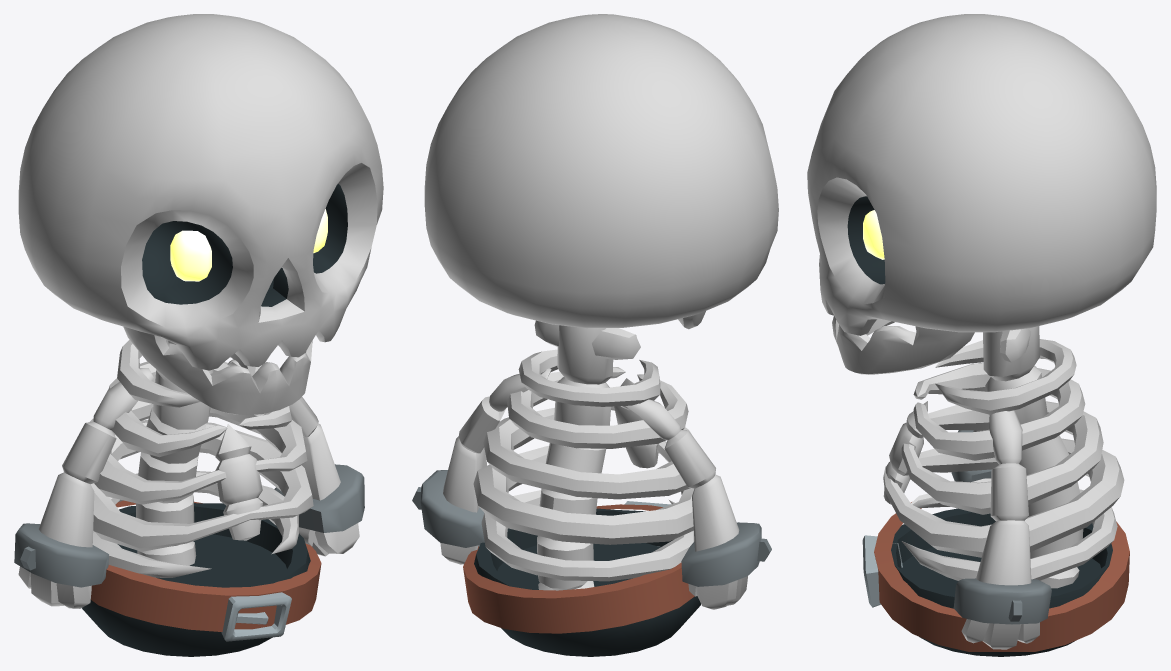
Rendered from SkeletorMinionForAnimation.gltf.
The picture shows the model from 3 angles, left to right: view 1: azimuth 30°, elevation 25°; view 2: azimuth 150°, elevation 25°; view 3: azimuth 270°, elevation 25°; orthographic projection. The views are drawn at different scales.
Visible parts, largest first — view 1: Cube7650, Cube7654_1, Cube7654_2, Cube7654, Cube7653_1, character_skeleton_minion_jaw, Cube7650_1, Cube7653, Cube7655_1, Cube7655, Cube7654_3, character_skeleton_minion_eyes; view 2: Cube7650, Cube7654_1, Cube7654, Cube7654_2, Cube7653_1, Cube7655_1, Cube7653, Cube7655; view 3: Cube7650, Cube7654_1, Cube7654, Cube7655_1, Cube7654_2, character_skeleton_minion_jaw, Cube7655, Cube7650_1, Cube7654_3, character_skeleton_minion_eyes.
Part boxes in pixels (x1=…): Cube7650: x1=18, y1=14, x2=383, y2=370; Cube7654_1: x1=89, y1=340, x2=313, y2=577; Cube7654_2: x1=82, y1=503, x2=310, y2=656; Cube7654: x1=90, y1=500, x2=321, y2=631; Cube7653_1: x1=18, y1=368, x2=153, y2=608; character_skeleton_minion_jaw: x1=123, y1=326, x2=312, y2=415; Cube7650_1: x1=142, y1=184, x2=347, y2=306; Cube7653: x1=14, y1=523, x2=108, y2=587; Cube7655_1: x1=227, y1=359, x2=359, y2=556; Cube7655: x1=274, y1=464, x2=364, y2=532; Cube7654_3: x1=221, y1=592, x2=291, y2=641; character_skeleton_minion_eyes: x1=170, y1=209, x2=327, y2=281; Cube7650: x1=424, y1=14, x2=778, y2=328; Cube7654_1: x1=473, y1=320, x2=694, y2=590; Cube7654: x1=463, y1=504, x2=694, y2=633; Cube7654_2: x1=474, y1=508, x2=700, y2=656; Cube7653_1: x1=625, y1=399, x2=747, y2=609; Cube7655_1: x1=440, y1=368, x2=551, y2=564; Cube7653: x1=681, y1=522, x2=771, y2=586; Cube7655: x1=412, y1=470, x2=484, y2=547; Cube7650: x1=807, y1=14, x2=1156, y2=335; Cube7654_1: x1=883, y1=326, x2=1124, y2=588; Cube7654: x1=874, y1=502, x2=1129, y2=651; Cube7655_1: x1=961, y1=410, x2=1039, y2=649; Cube7654_2: x1=891, y1=508, x2=1112, y2=656; character_skeleton_minion_jaw: x1=832, y1=316, x2=974, y2=374; Cube7655: x1=953, y1=578, x2=1051, y2=624; Cube7650_1: x1=847, y1=196, x2=885, y2=284; Cube7654_3: x1=862, y1=535, x2=902, y2=607; character_skeleton_minion_eyes: x1=863, y1=210, x2=884, y2=259.
Size of the model in its own units: 1.05 by 1.7 by 0.9162.
